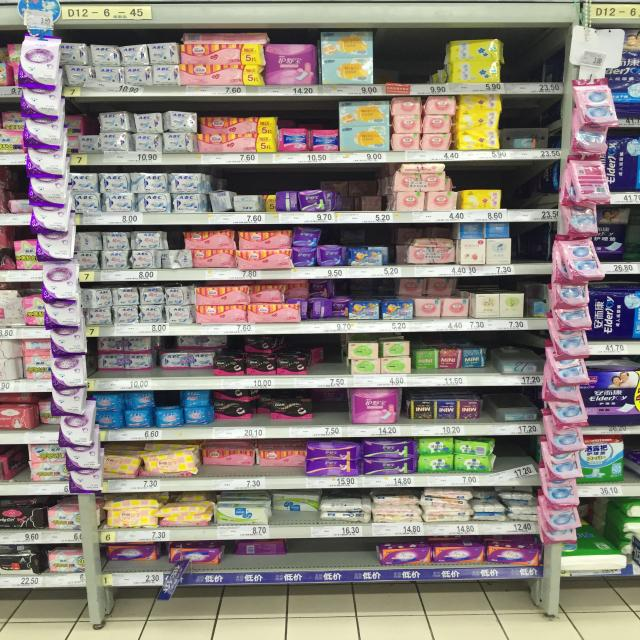void: (378, 31, 448, 85), (507, 38, 559, 82), (505, 163, 555, 208), (291, 542, 377, 568), (514, 225, 552, 265), (498, 436, 534, 472)
